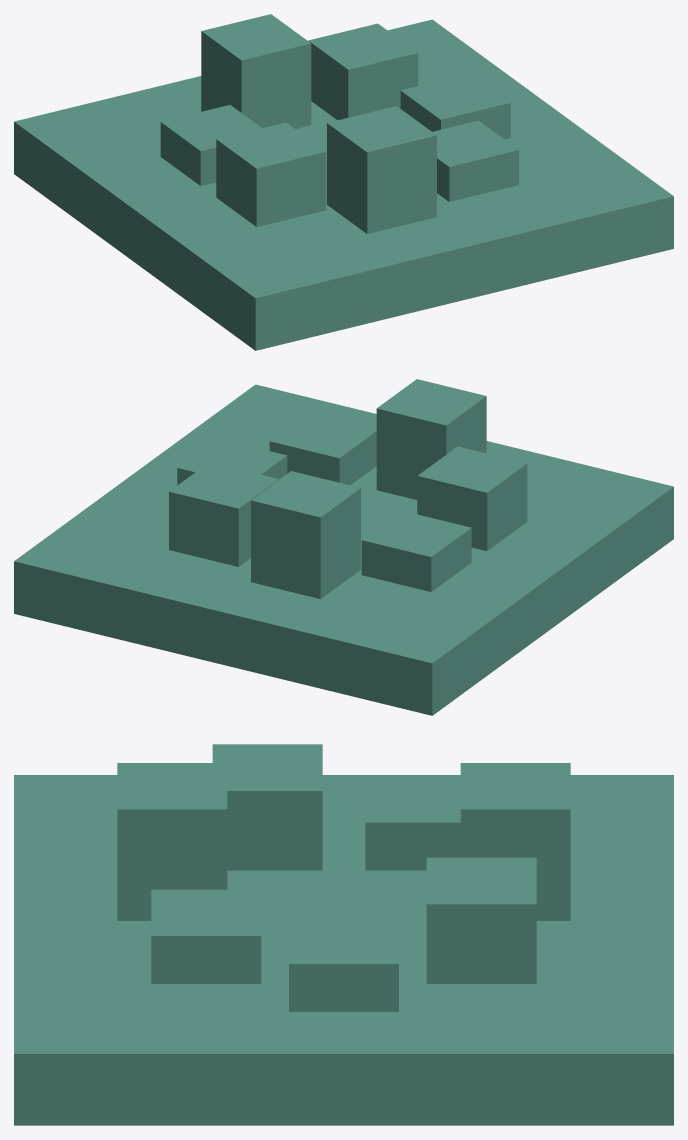
The model's file is wetland.glb.
The picture shows the model from 3 angles, top to bottom: view 1: azimuth 30°, elevation 25°; view 2: azimuth 150°, elevation 25°; view 3: azimuth 270°, elevation 25°; orthographic projection. The views are drawn at different scales.
Parts seen in each view (by area): view 1: wetland base, wetland relief.005, wetland relief.002, wetland relief.004, wetland relief.001, wetland relief.006, wetland relief, wetland relief.003; view 2: wetland base, wetland relief.002, wetland relief.005, wetland relief.004, wetland relief.001, wetland relief.003, wetland relief.006, wetland relief; view 3: wetland base, wetland relief.005, wetland relief.001, wetland relief.002, wetland relief.004, wetland relief.006, wetland relief, wetland relief.003.
Part boxes in pixels (bbox=[...]): wetland base: bbox=[14, 19, 673, 350]; wetland relief.005: bbox=[327, 106, 436, 233]; wetland relief.002: bbox=[201, 14, 311, 128]; wetland relief.004: bbox=[216, 122, 326, 226]; wetland relief.001: bbox=[308, 23, 418, 120]; wetland relief.006: bbox=[432, 120, 518, 201]; wetland relief: bbox=[400, 73, 510, 139]; wetland relief.003: bbox=[160, 105, 261, 185]; wetland base: bbox=[14, 384, 673, 715]; wetland relief.002: bbox=[251, 471, 360, 598]; wetland relief.005: bbox=[376, 379, 486, 499]; wetland relief.004: bbox=[417, 446, 527, 550]; wetland relief.001: bbox=[169, 462, 278, 566]; wetland relief.003: bbox=[361, 510, 471, 591]; wetland relief.006: bbox=[269, 412, 376, 485]; wetland relief: bbox=[177, 438, 287, 485]; wetland base: bbox=[14, 775, 673, 1125]; wetland relief.005: bbox=[117, 763, 227, 920]; wetland relief.001: bbox=[426, 857, 536, 983]; wetland relief.002: bbox=[460, 763, 570, 920]; wetland relief.004: bbox=[212, 744, 322, 870]; wetland relief.006: bbox=[151, 889, 261, 983]; wetland relief: bbox=[289, 917, 398, 1011]; wetland relief.003: bbox=[365, 776, 460, 870].
Bounding box in the file's own units: 3 × 0.92 × 3.
